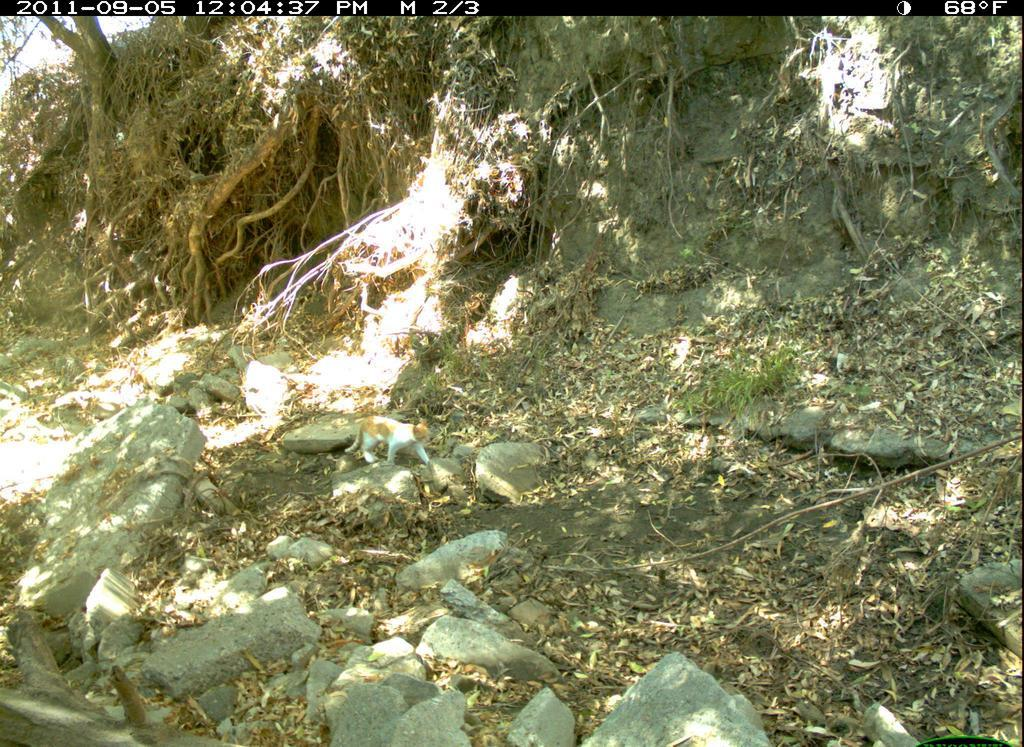cat: (344, 382, 457, 498)
